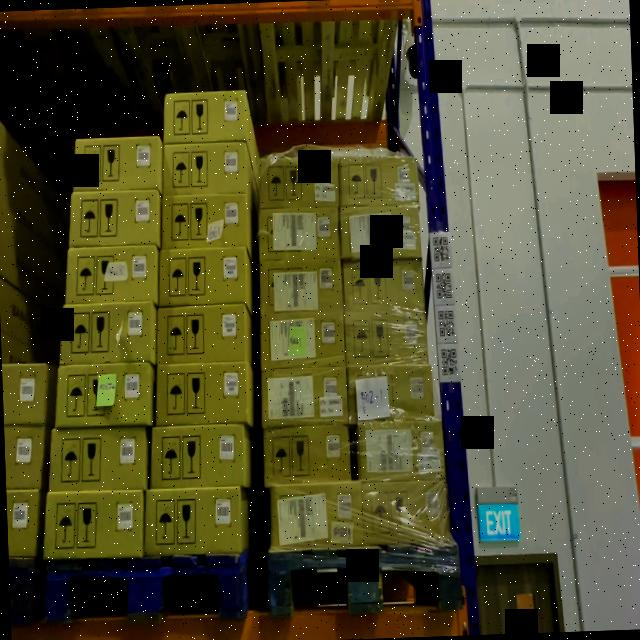box: (47, 494, 140, 556), (149, 494, 241, 556), (51, 428, 144, 489), (270, 484, 360, 543), (264, 422, 348, 481), (60, 368, 148, 424), (152, 429, 242, 481), (365, 481, 447, 538), (158, 363, 242, 418), (160, 252, 247, 304), (69, 247, 155, 299), (65, 308, 151, 360), (262, 366, 344, 420), (351, 366, 433, 420), (71, 195, 157, 242), (262, 256, 342, 306), (158, 308, 244, 354), (262, 156, 338, 208), (164, 146, 246, 194), (261, 318, 344, 364), (342, 206, 421, 254), (168, 91, 245, 140), (358, 427, 444, 470), (74, 141, 160, 184), (342, 152, 415, 200), (346, 266, 424, 310), (164, 200, 244, 242), (260, 208, 338, 251), (346, 315, 424, 358)
